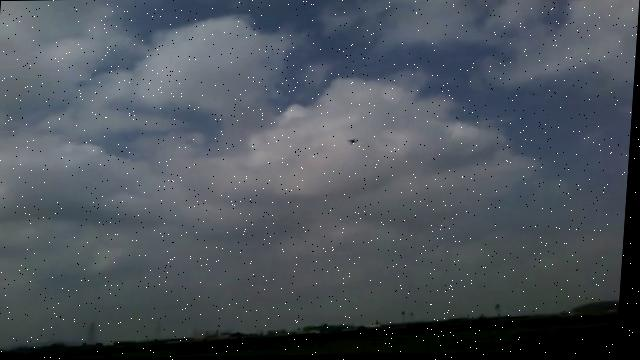drone: (346, 133, 361, 146)
